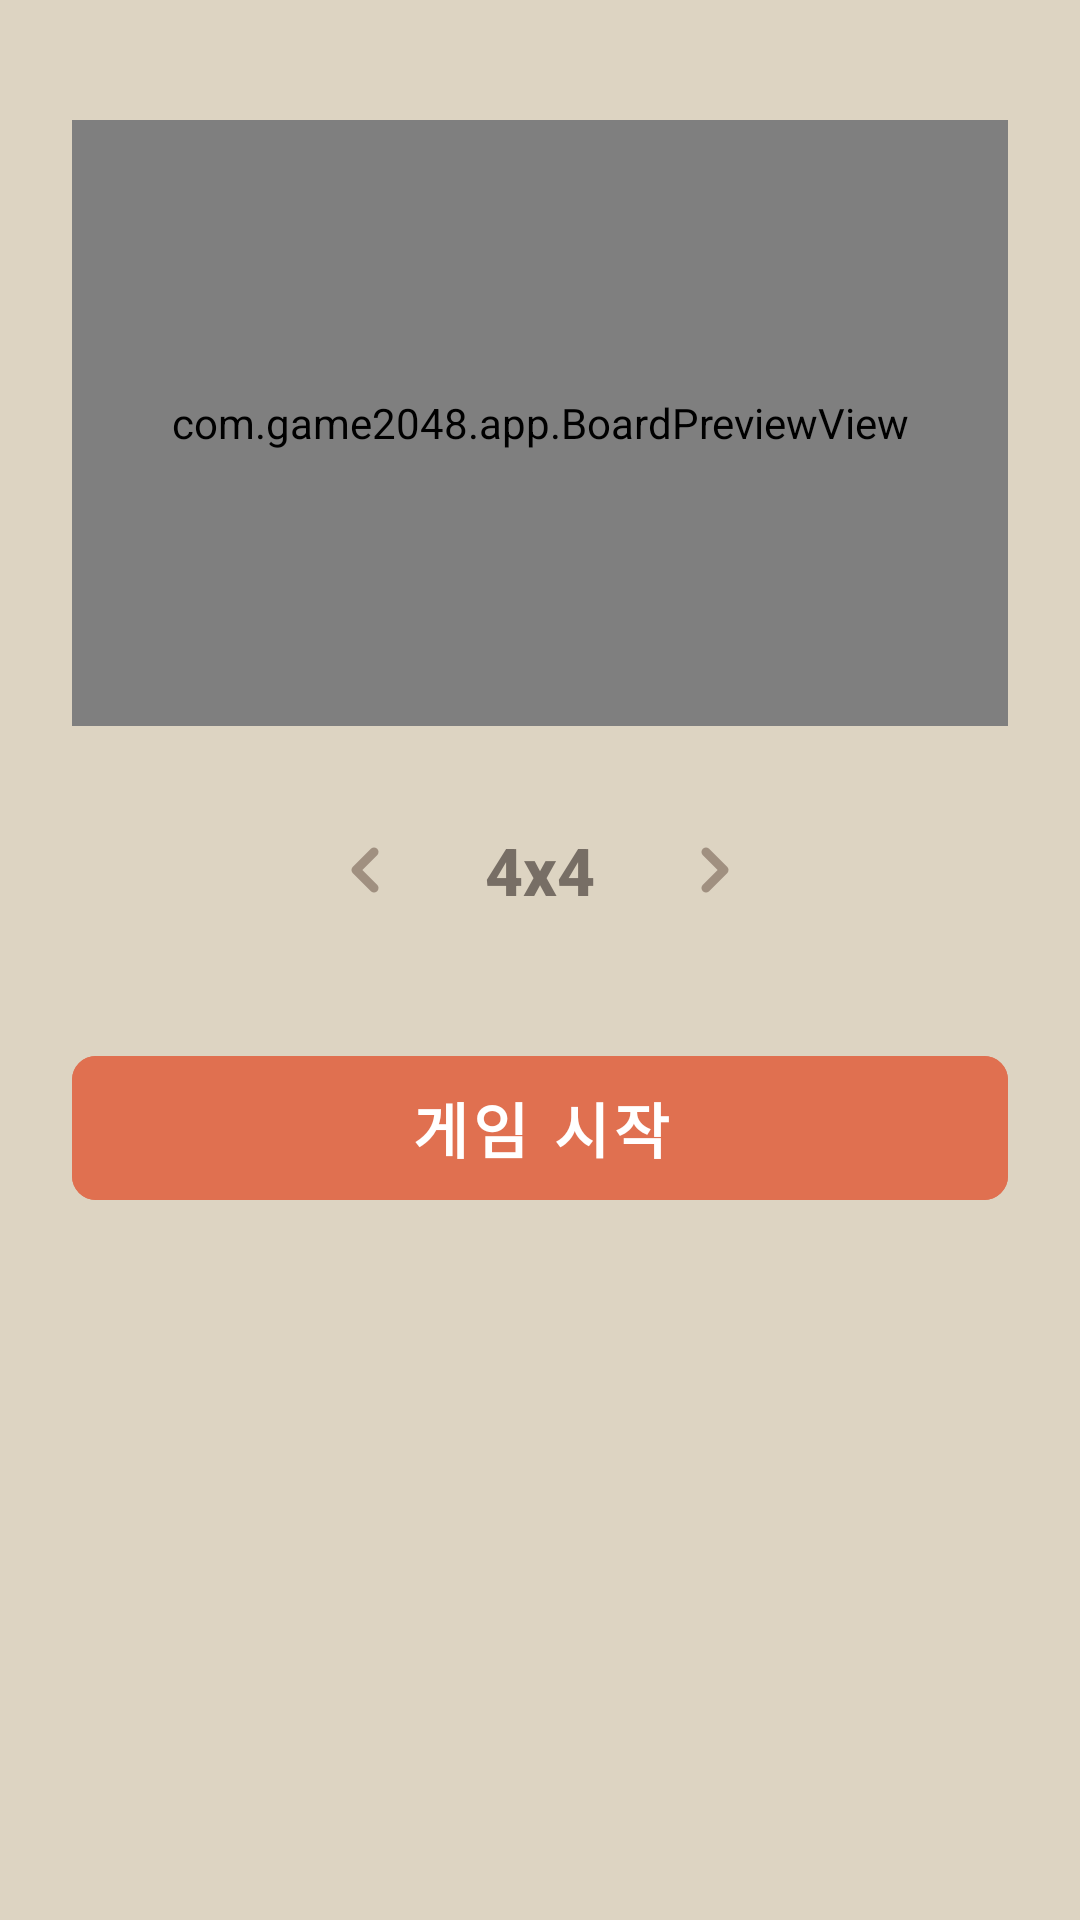

Icons on this 1080×1920 Android screen, each with the point to tap as point (x, y):
다음 난이도: point (715, 870)
이전 난이도: point (365, 870)
